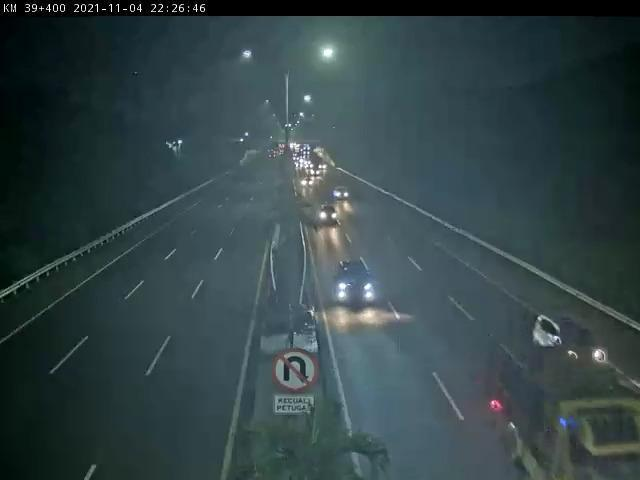car: (535, 296, 617, 376), (325, 247, 397, 320), (313, 199, 347, 228), (329, 185, 362, 207), (300, 173, 316, 189)
truck: (485, 335, 640, 480)
